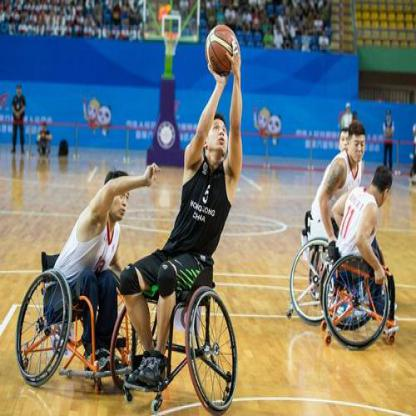wheelchair: (123, 75, 241, 410), (14, 168, 147, 398), (286, 116, 373, 340), (323, 164, 398, 350)
